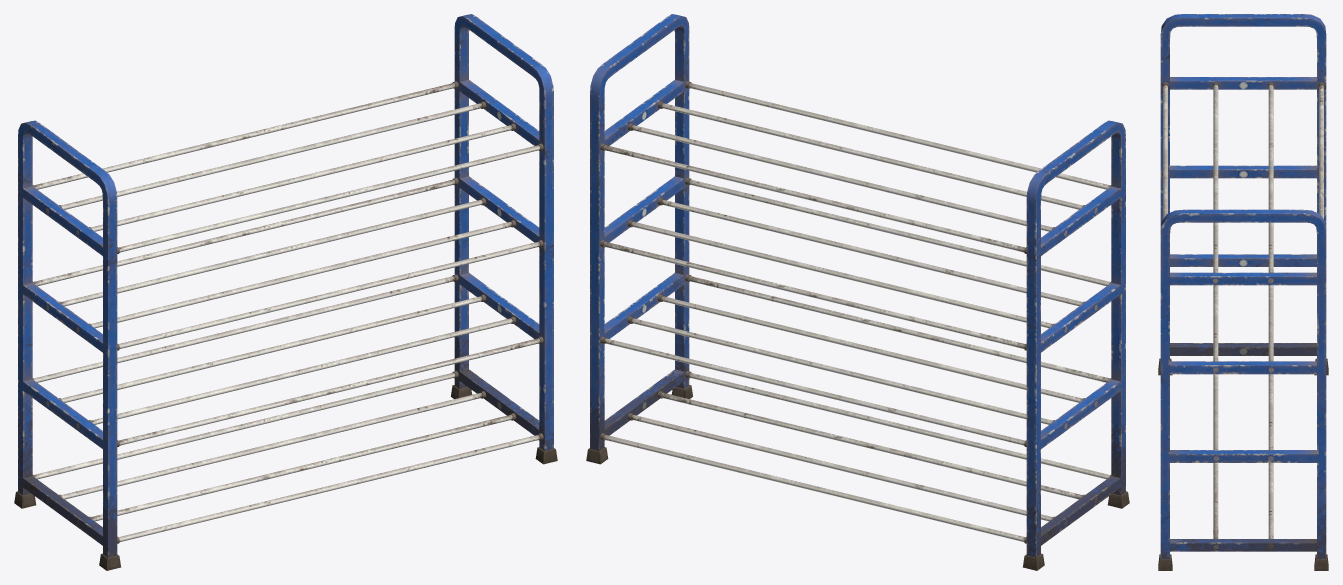
File: shoeRack01.FBX
3 views of the same model, side by side, from view 1: azimuth 30°, elevation 25°; view 2: azimuth 150°, elevation 25°; view 3: azimuth 270°, elevation 25° (orthographic). The views are drawn at different scales.
Parts seen in each view (by area): view 1: SM_ShoeRack01; view 2: SM_ShoeRack01; view 3: SM_ShoeRack01.
Part boxes in pixels (x1,y1,x2,y2): SM_ShoeRack01: (14,14,557,570); SM_ShoeRack01: (586,14,1129,570); SM_ShoeRack01: (1158,14,1328,570).
Size of the model in its own units: 80.98 by 66.45 by 28.81.
1 material, 1 textured.
